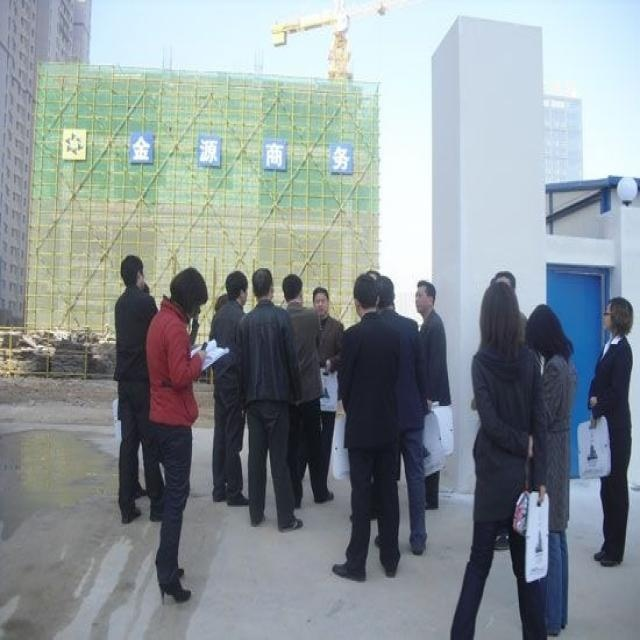Sin_Casco_Mascarrilla: (170, 266, 209, 317)
Sin_Chaleco: (341, 314, 403, 441), (238, 304, 296, 407)
